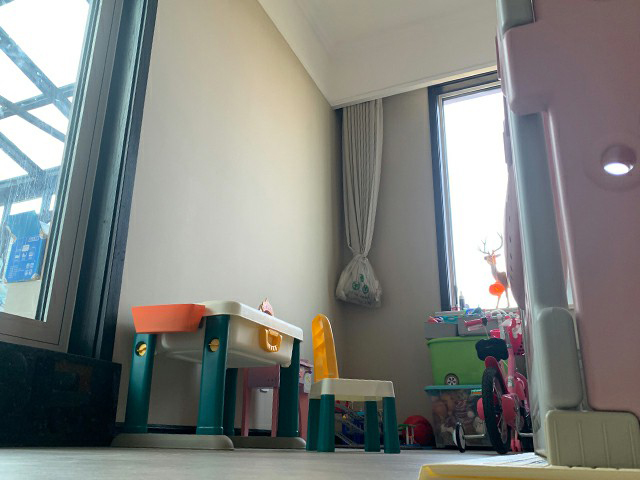stool: (303, 310, 397, 450)
table: (109, 298, 307, 452)
